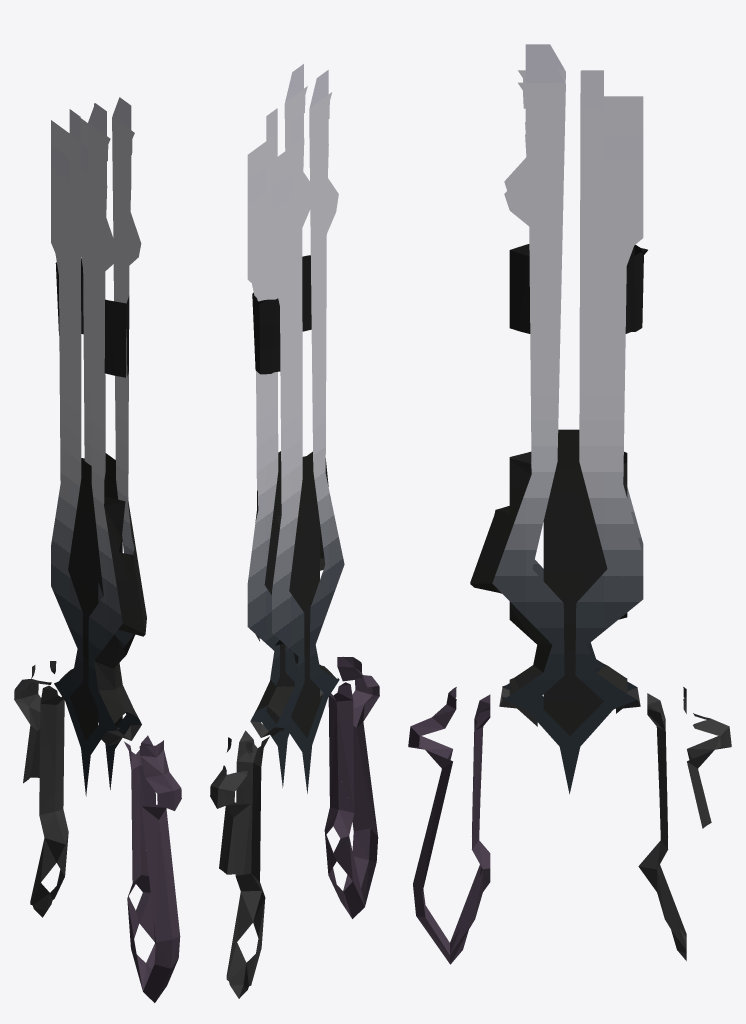
The model's file is lunareclipse.obj.
3 views of the same model, side by side, from view 1: azimuth 30°, elevation 25°; view 2: azimuth 150°, elevation 25°; view 3: azimuth 270°, elevation 25° (orthographic). The views are drawn at different scales.
Bounding box in the file's own units: 2.31 × 86.4 × 25.45.
